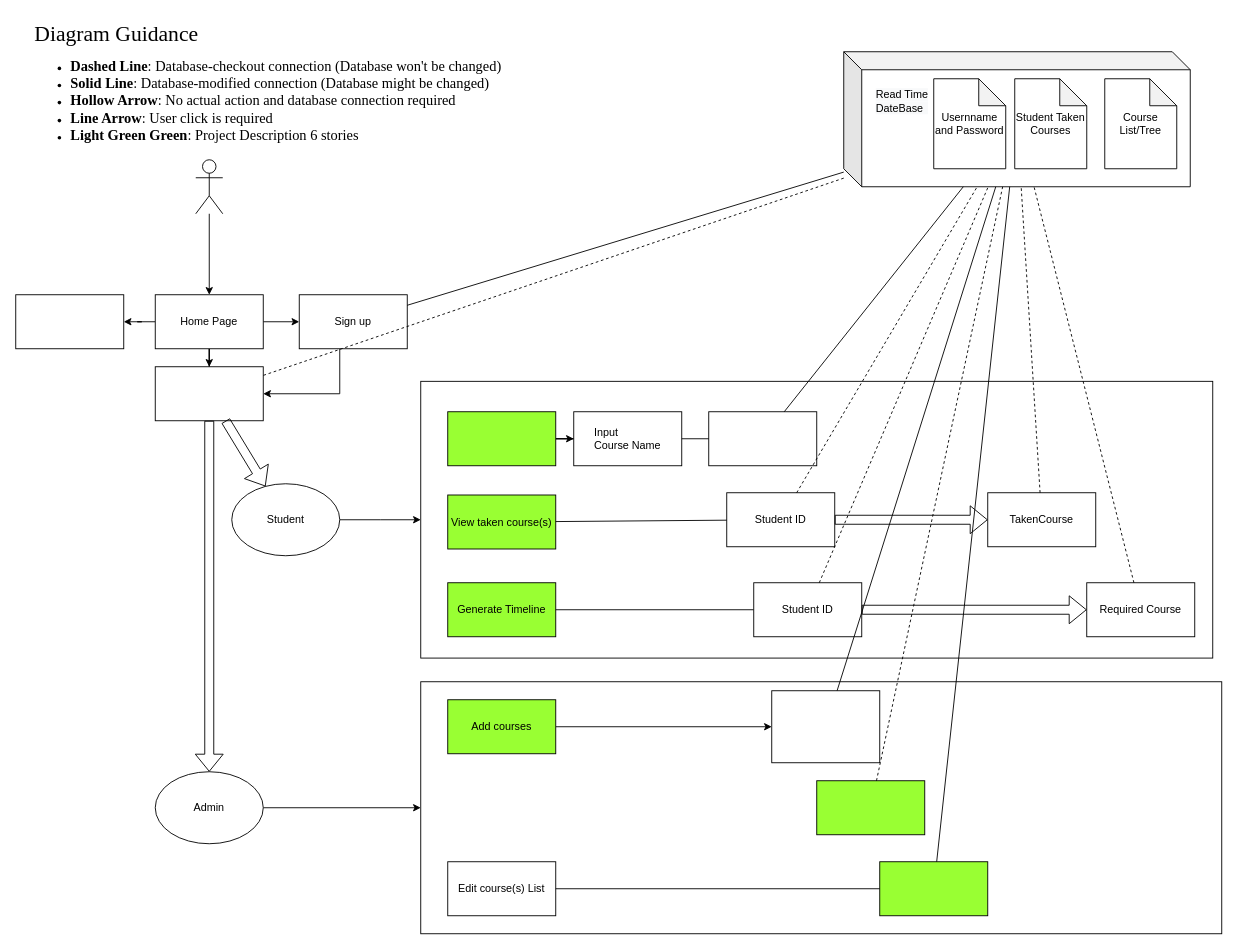
This 1238x950 diagram has some shape labels left out. Each missing label, with the centre of its shape:
Actor: point (209, 186)
Add taken course(s): point (501, 438)
Course Name Student ID: point (762, 438)
Course Object: point (933, 888)
Input Course Name Course Code Offering Session Prerequisites: point (825, 726)
Reset Password: point (69, 321)
Sign in: point (208, 393)
View course(s) List: point (870, 807)
